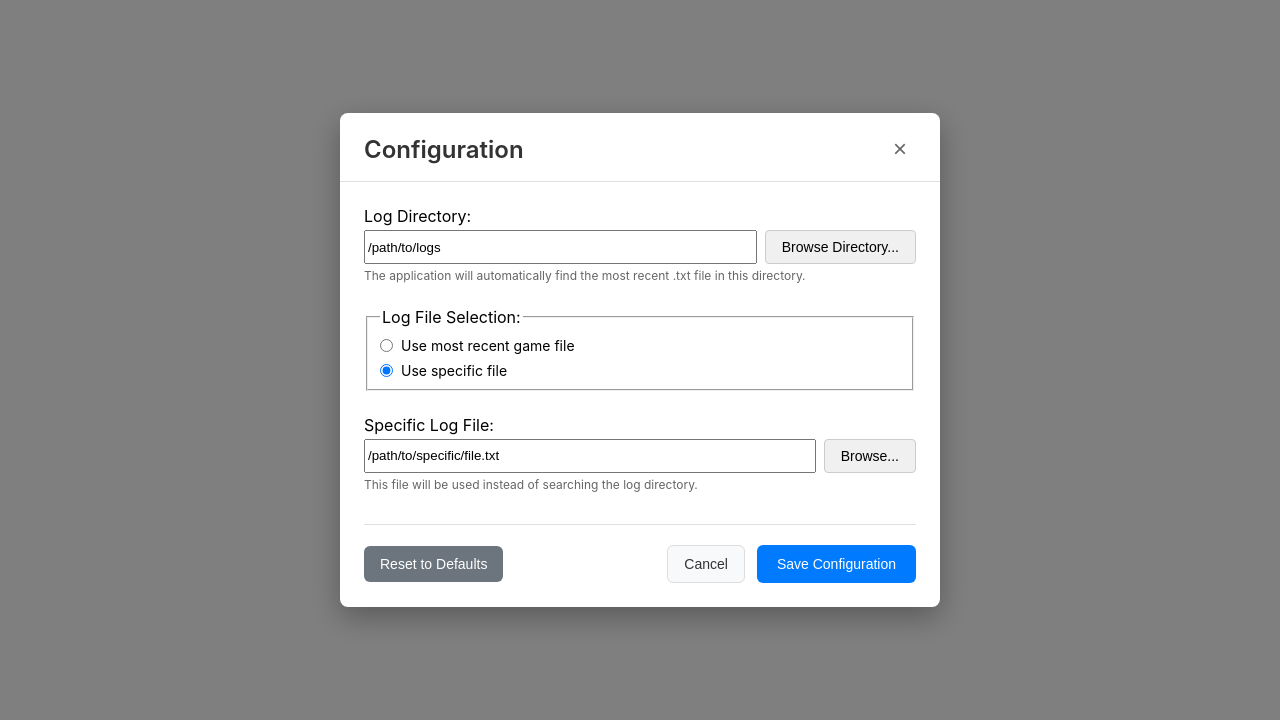
ConfigModal › API interactions › handles save configuration error
// Save configuration
Click the button "Save Configuration" at (836, 564), box [757, 545, 916, 583]
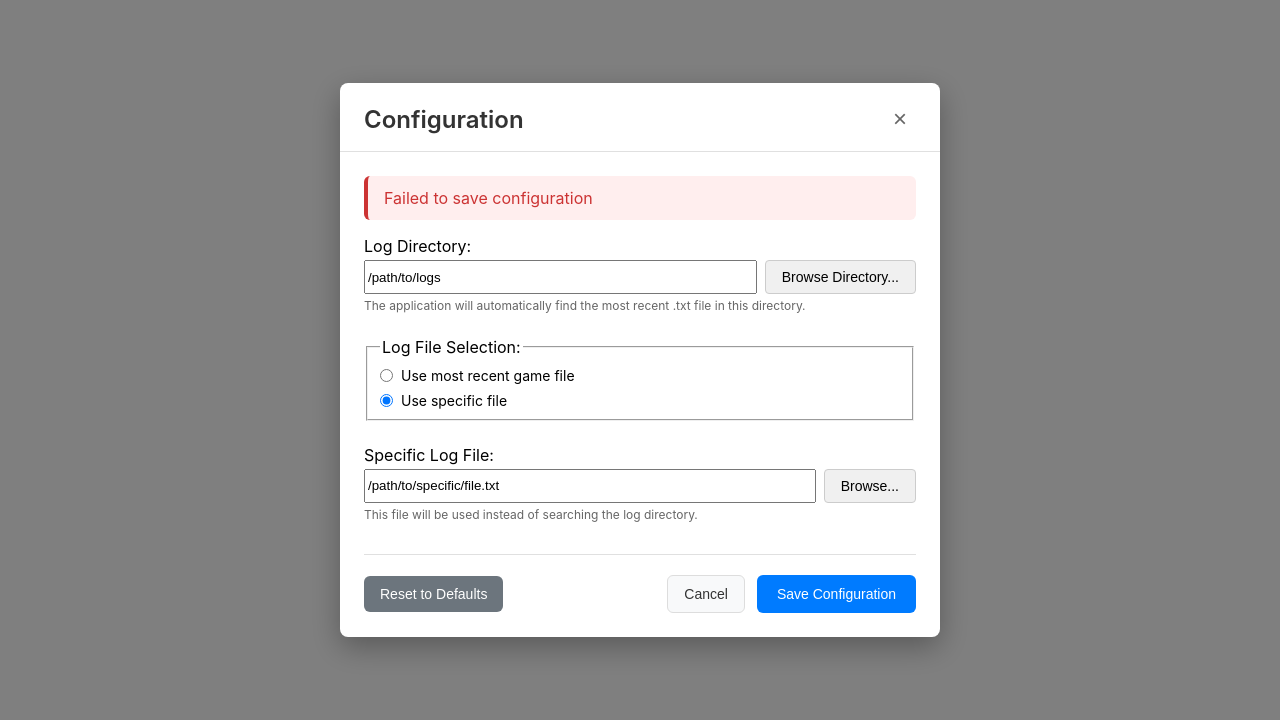
Result: the text "Failed to save configuration" is shown at [364, 176, 916, 220]
